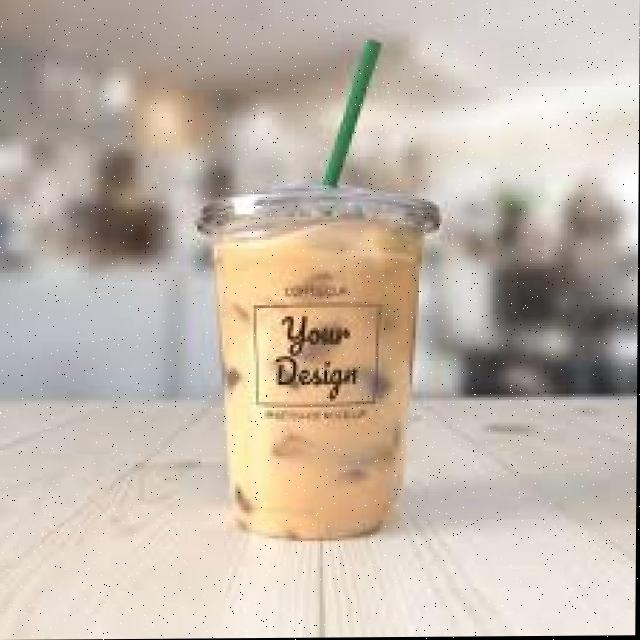cup: (216, 220, 422, 539)
